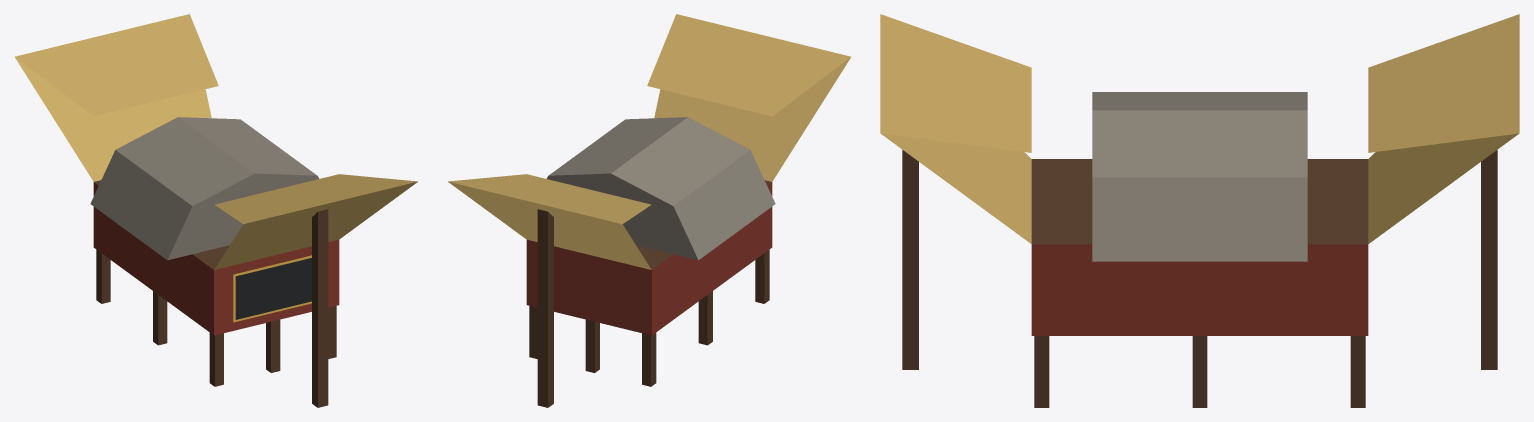
The model's file is tongkonan.glb.
The picture shows the model from 3 angles, left to right: view 1: azimuth 30°, elevation 25°; view 2: azimuth 150°, elevation 25°; view 3: azimuth 270°, elevation 25°; orthographic projection. The views are drawn at different scales.
Parts seen in each view (by area): view 1: tongkonan; view 2: tongkonan; view 3: tongkonan.
Boxes of the visible parts, box(x1,y1,x2,y2) form: tongkonan: box(15, 14, 417, 407); tongkonan: box(448, 14, 850, 407); tongkonan: box(880, 14, 1519, 407).
Bounding box in the file's own units: 8.4 × 9.6 × 19.
1 material, 1 textured.
